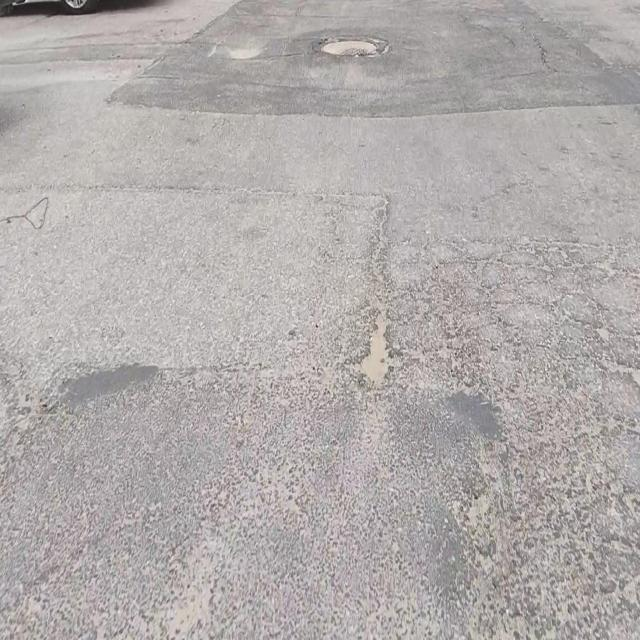Potholes: (306, 30, 387, 62)
